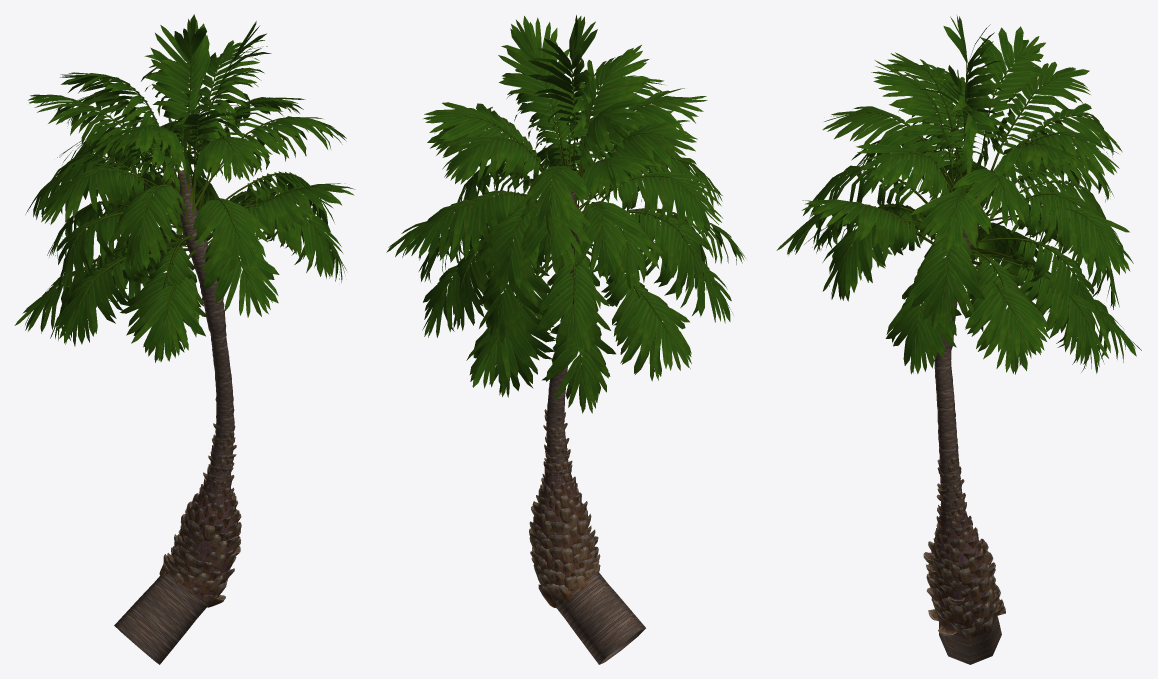
3 views of the same model, side by side, from view 1: azimuth 30°, elevation 25°; view 2: azimuth 150°, elevation 25°; view 3: azimuth 270°, elevation 25° (orthographic). The views are drawn at different scales.
Visible parts, largest first — view 1: SM_Palm_01_LOD0; view 2: SM_Palm_01_LOD0; view 3: SM_Palm_01_LOD0.
Boxes of the visible parts, x1=… form: SM_Palm_01_LOD0: x1=14, y1=14, x2=355, y2=664; SM_Palm_01_LOD0: x1=386, y1=15, x2=745, y2=664; SM_Palm_01_LOD0: x1=776, y1=16, x2=1141, y2=664.
Bounding box in the file's own units: 11.47 × 22.87 × 11.43.
Materials: 2 (2 with a texture image).
